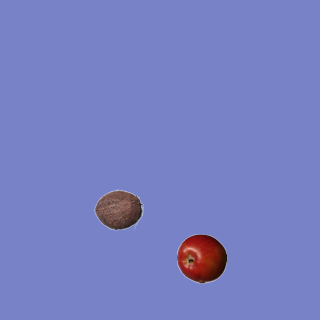Apple Braeburn: (176, 233, 226, 283)
Cocos: (93, 184, 143, 234)
